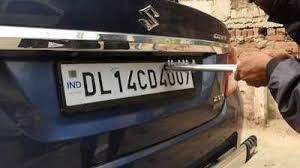Liscence Plate: (58, 62, 200, 93)
